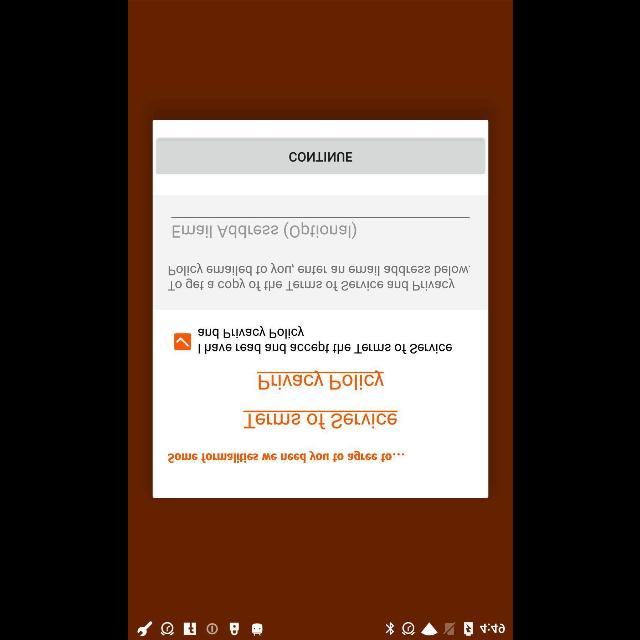checkbox: (173, 333, 190, 351)
input: (170, 217, 470, 239)
panel: (152, 120, 488, 498)
text: (168, 263, 470, 291), (196, 326, 452, 354), (172, 221, 356, 239), (243, 410, 397, 430), (167, 451, 403, 464), (256, 370, 384, 390)
textbutton: (156, 138, 484, 174)
uppertaskbar: (128, 617, 512, 639)
